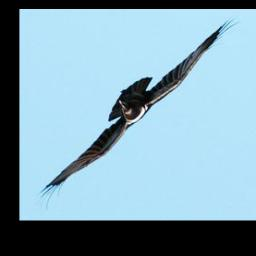Crow: (34, 17, 242, 214)
